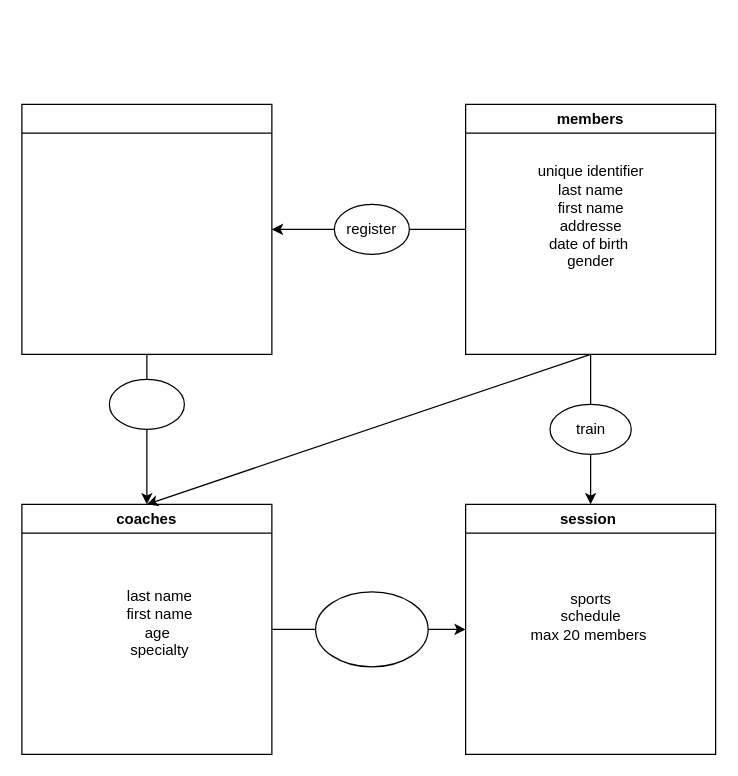
Some shapes in this 738 by 776 pixel diagram are drawn without their labels. Each missing label, with the centre of its shape:
gymnasiums name addresse phone number: (146,228)
hire: (146,403)
lead: (371,629)
